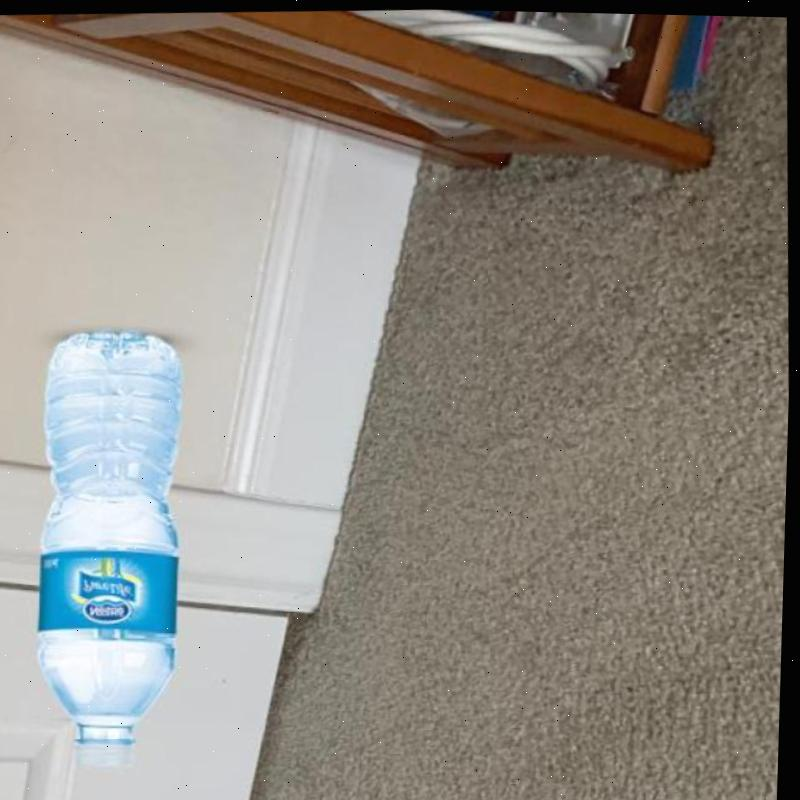botella: (31, 327, 197, 770)
